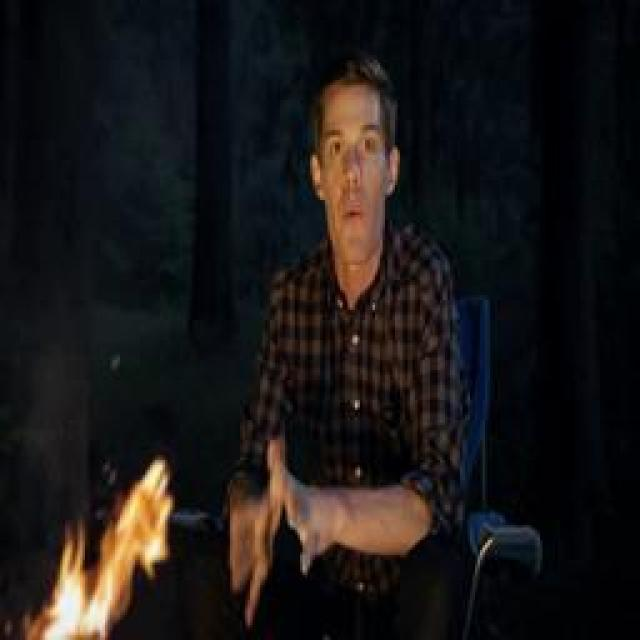Fire: (20, 455, 168, 640)
